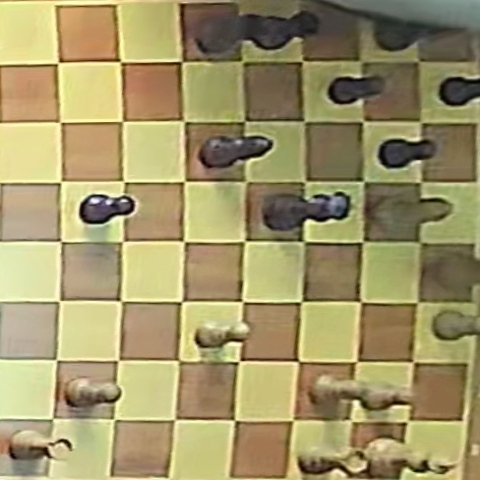black-bishop: (200, 135, 273, 169)
black-pawn: (379, 138, 437, 169), (329, 75, 388, 105), (80, 194, 135, 224), (440, 75, 480, 107)
black-queen: (264, 192, 349, 230)
black-rook: (195, 12, 270, 55), (254, 11, 320, 49)
white-bishop: (367, 195, 452, 236)
white-king: (367, 439, 454, 477)
white-pawn: (309, 374, 366, 407), (66, 377, 121, 407), (196, 321, 250, 348), (358, 383, 411, 410), (433, 311, 479, 340)
white-queen: (432, 249, 480, 293)
white-rook: (298, 445, 369, 477), (10, 430, 72, 461)
